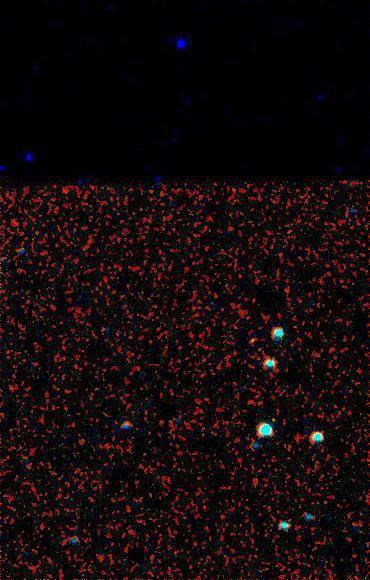star: (260, 406, 290, 436)
